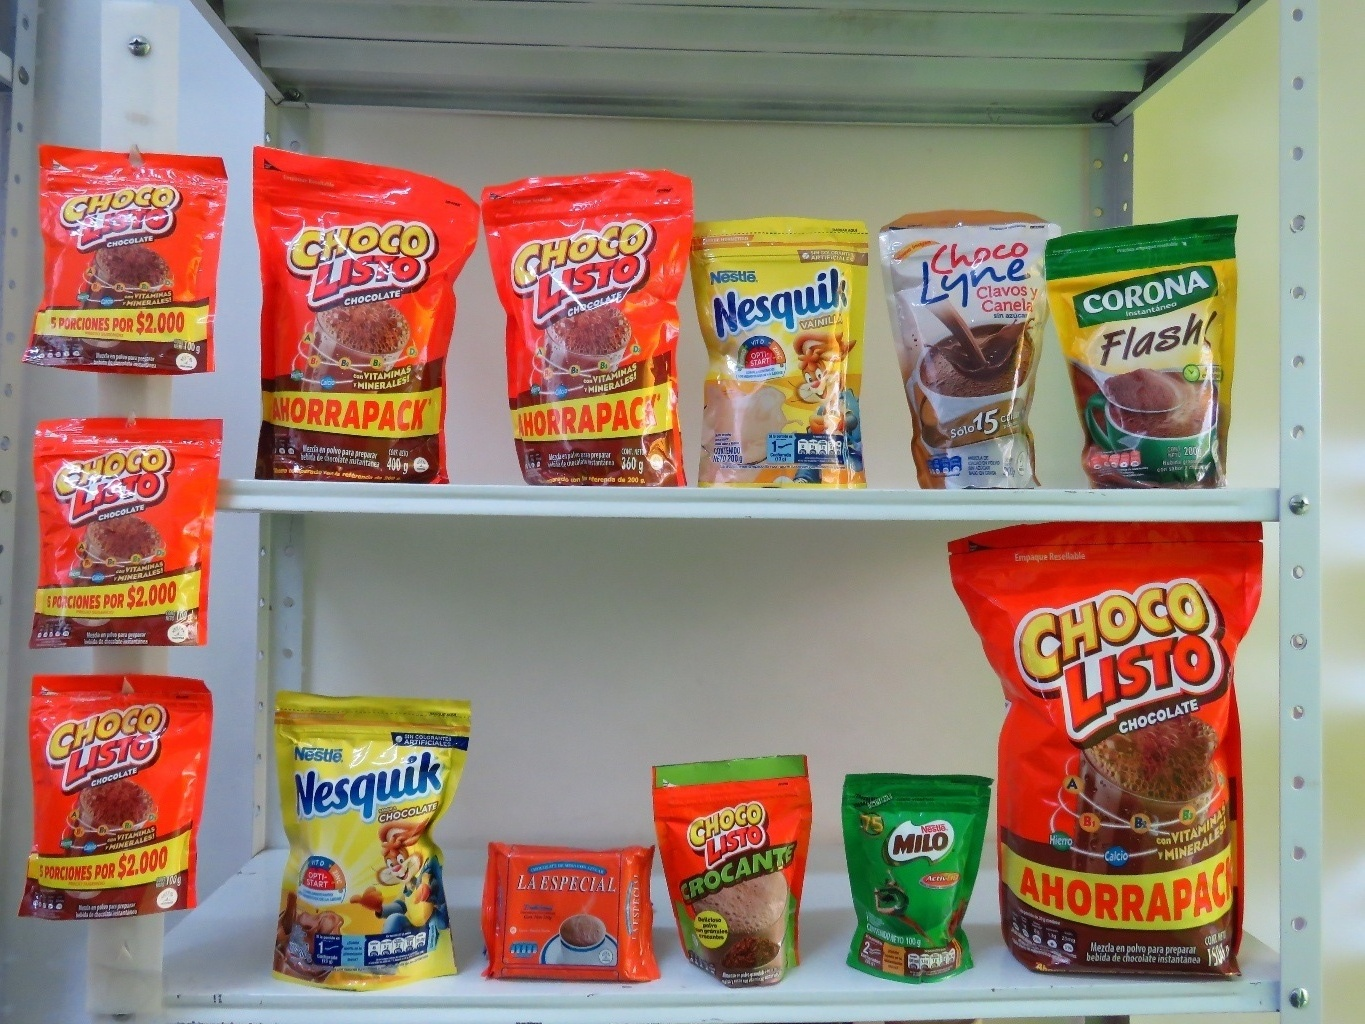COL0170102DYP10000: (651, 753, 823, 987)
COL0170103DYP1,500: (951, 520, 1278, 975)
COL0170103DYP10000: (18, 130, 225, 376)
COL0170103DYP36000: (492, 158, 703, 492)
COL0170103DYP40000: (248, 137, 477, 484)
COL0170203DYP10000: (817, 759, 987, 980)
COL0170303DYP20000: (256, 673, 475, 992)
COL0170306DYP20000: (680, 201, 878, 494)
